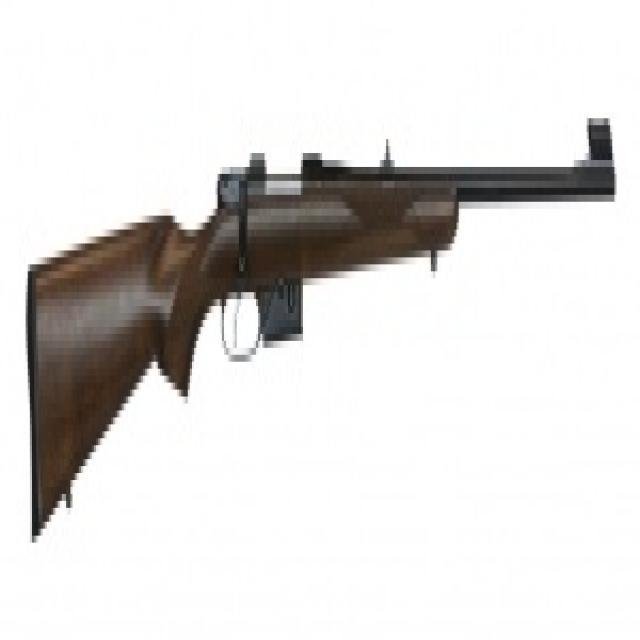weapon: (19, 83, 622, 592)
